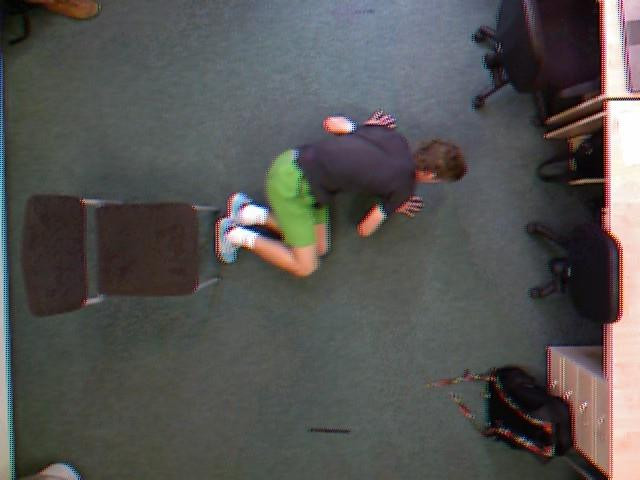fall: (209, 103, 473, 284)
